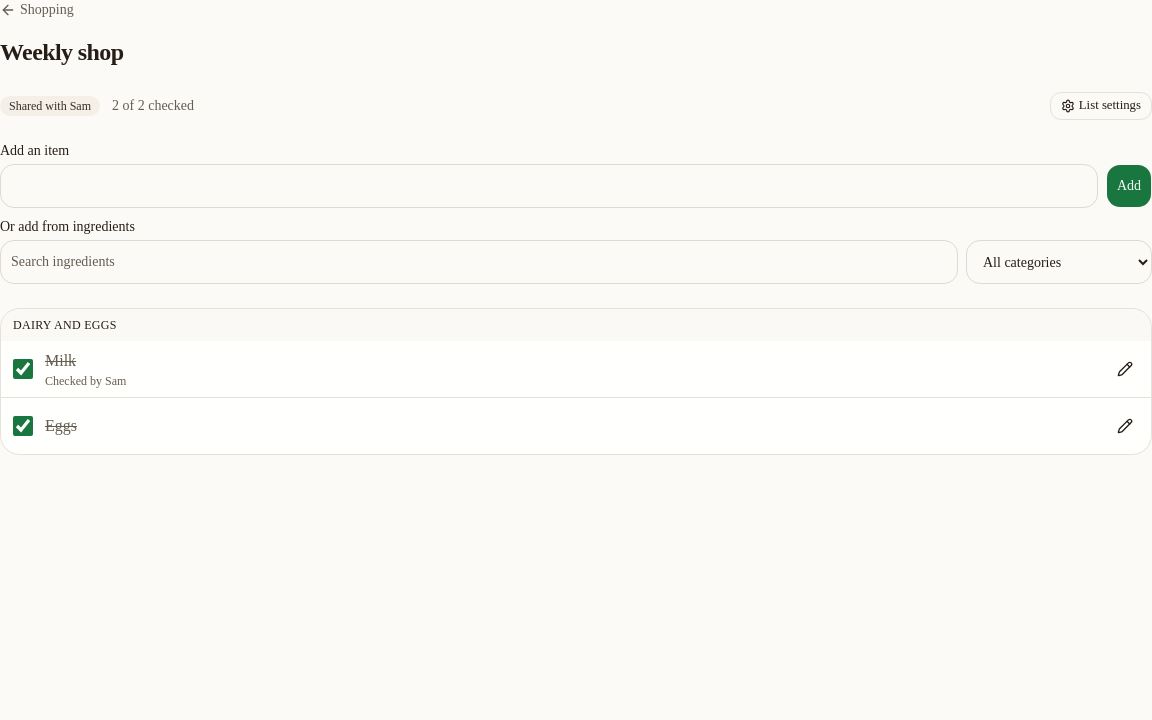
Test: a list shared with the partner › opens the settings for the owner
Click the button "List settings" at (1101, 106), box x1=1050 y1=92 x2=1151 y2=120
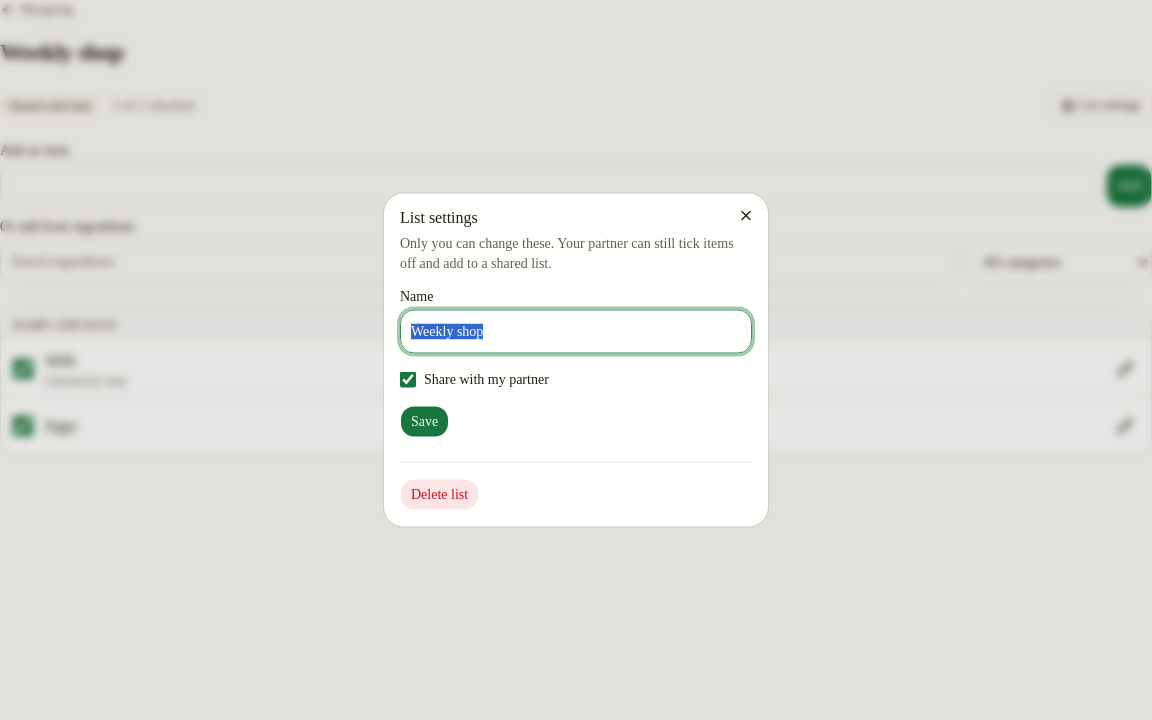
expect the dialog "List settings" is shown: met, box x1=384 y1=194 x2=768 y2=526
